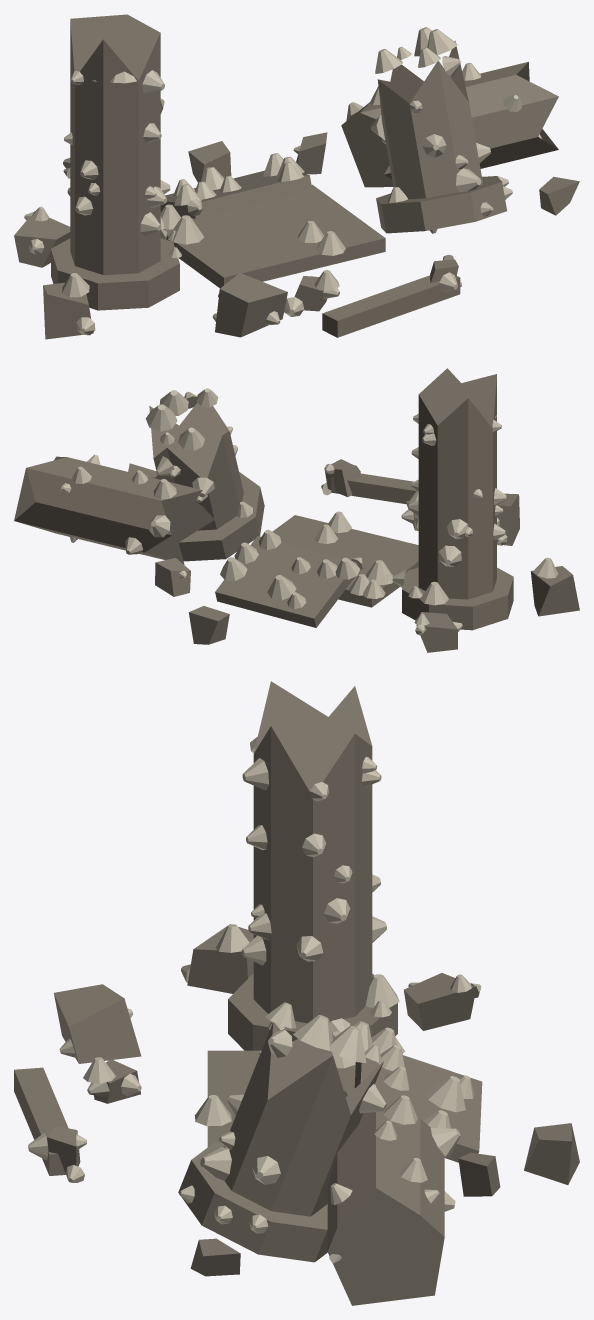
The model's file is BrokenColumn.fbx.
3 views of the same model, one above another, from view 1: azimuth 30°, elevation 25°; view 2: azimuth 150°, elevation 25°; view 3: azimuth 270°, elevation 25° (orthographic). The views are drawn at different scales.
Visible parts, largest first — view 1: ColumnStub_Tall_Shaft, Platform_Step1, ColumnStub_Short_Shaft, Column_Fallen, ColumnStub_Tall_Base, ColumnStub_Short_Base, Beam_Fallen, Rubble_03, Platform_Step2, Rubble_08, Rubble_01, Rubble_06 (+11 smaller); view 2: ColumnStub_Tall_Shaft, Column_Fallen, Platform_Step2, ColumnStub_Short_Shaft, Platform_Step1, ColumnStub_Tall_Base, ColumnStub_Short_Base, Rubble_08, Beam_Fallen, Rubble_06, Rubble_01, Rubble_02 (+12 smaller); view 3: ColumnStub_Tall_Shaft, Column_Fallen, ColumnStub_Short_Shaft, ColumnStub_Short_Base, Rubble_03, Platform_Step2, ColumnStub_Tall_Base, Platform_Step1, Rubble_01, Beam_Fallen, Rubble_08, Rubble_06 (+8 smaller).
Part boxes in pixels (<box>): ColumnStub_Tall_Shaft: <box>70,14,160,275</box>; Platform_Step1: <box>163,184,385,288</box>; ColumnStub_Short_Shaft: <box>377,40,482,199</box>; Column_Fallen: <box>341,61,558,187</box>; ColumnStub_Tall_Base: <box>51,238,179,310</box>; ColumnStub_Short_Base: <box>376,176,506,233</box>; Beam_Fallen: <box>322,275,460,337</box>; Rubble_03: <box>215,273,287,337</box>; Platform_Step2: <box>160,170,312,218</box>; Rubble_08: <box>43,282,93,339</box>; Rubble_01: <box>14,211,70,267</box>; Rubble_06: <box>188,141,231,182</box>; ColumnStub_Tall_Shaft: <box>418,368,496,599</box>; Column_Fallen: <box>14,456,214,564</box>; Platform_Step2: <box>215,536,357,627</box>; ColumnStub_Short_Shaft: <box>149,402,243,530</box>; Platform_Step1: <box>272,515,418,607</box>; ColumnStub_Tall_Base: <box>402,567,513,630</box>; ColumnStub_Short_Base: <box>179,472,264,561</box>; Rubble_08: <box>530,566,579,616</box>; Beam_Fallen: <box>331,473,416,504</box>; Rubble_06: <box>188,606,229,644</box>; Rubble_01: <box>416,612,457,652</box>; Rubble_02: <box>155,558,190,596</box>; ColumnStub_Tall_Shaft: <box>253,681,372,1023</box>; Column_Fallen: <box>327,1094,444,1305</box>; ColumnStub_Short_Shaft: <box>223,1022,383,1216</box>; ColumnStub_Short_Base: <box>178,1142,327,1262</box>; Rubble_03: <box>54,984,141,1063</box>; Platform_Step2: <box>354,1055,482,1162</box>; ColumnStub_Tall_Base: <box>228,973,397,1050</box>; Platform_Step1: <box>207,1050,355,1146</box>; Rubble_01: <box>404,973,476,1030</box>; Beam_Fallen: <box>14,1067,78,1175</box>; Rubble_08: <box>187,924,253,993</box>; Rubble_06: <box>524,1123,579,1184</box>.
Bounding box in the file's own units: 985 × 467 × 666.
